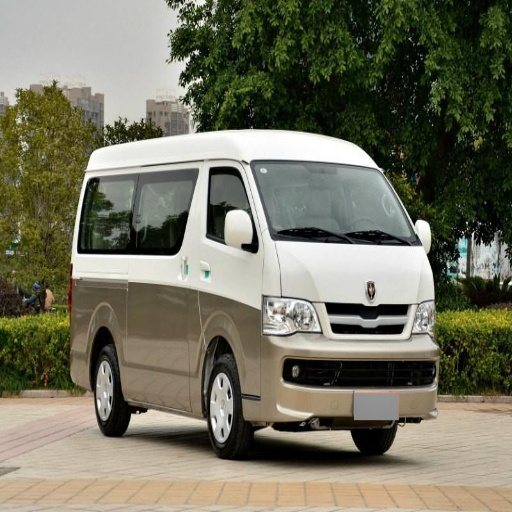front_bumper: (242, 301, 438, 430)
front_glass: (251, 160, 415, 244)
front_right_door: (198, 163, 263, 292)
front_right_light: (263, 297, 320, 335)
hood: (278, 242, 429, 305)
trunk: (69, 261, 214, 378)
